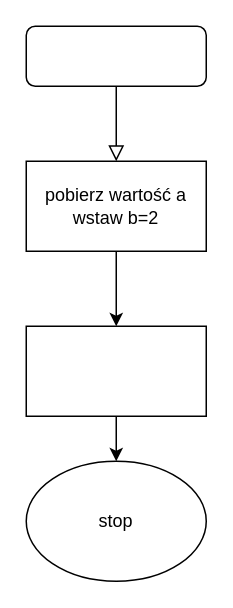
Some shapes in this 233 by 608 pixel diagram are drawn without their labels. Each missing label, with the centre of its shape:
"start" belongs at pixel 115 55.
"wyświetl a+b" belongs at pixel 115 370.
